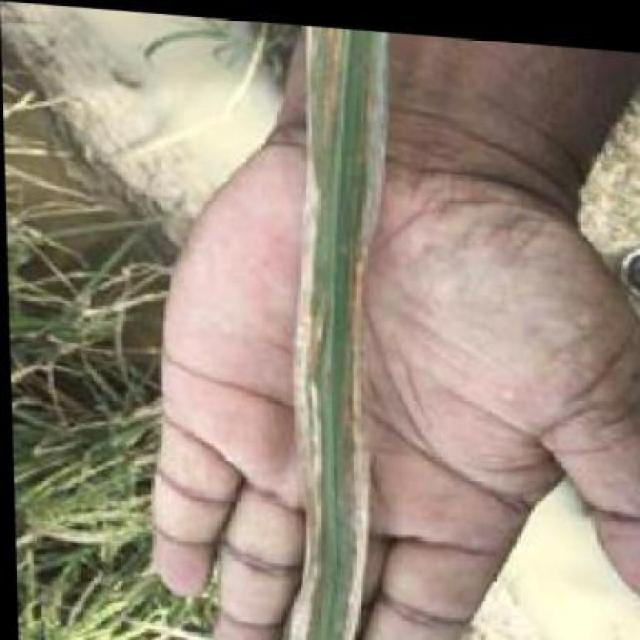Brown_Spot: (269, 31, 360, 640)
